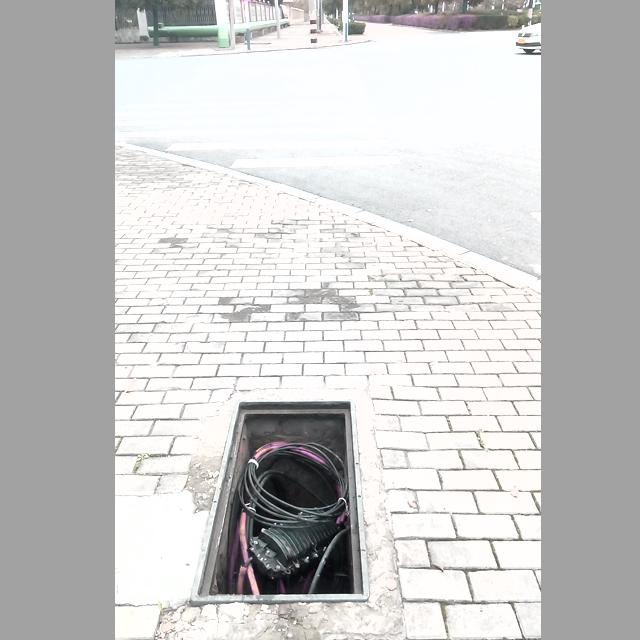lose: (185, 375, 370, 607)
